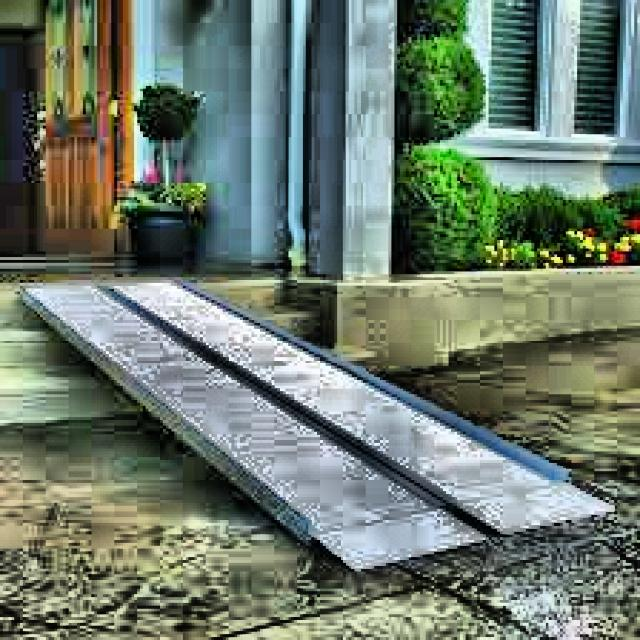escada: (0, 290, 60, 424)
